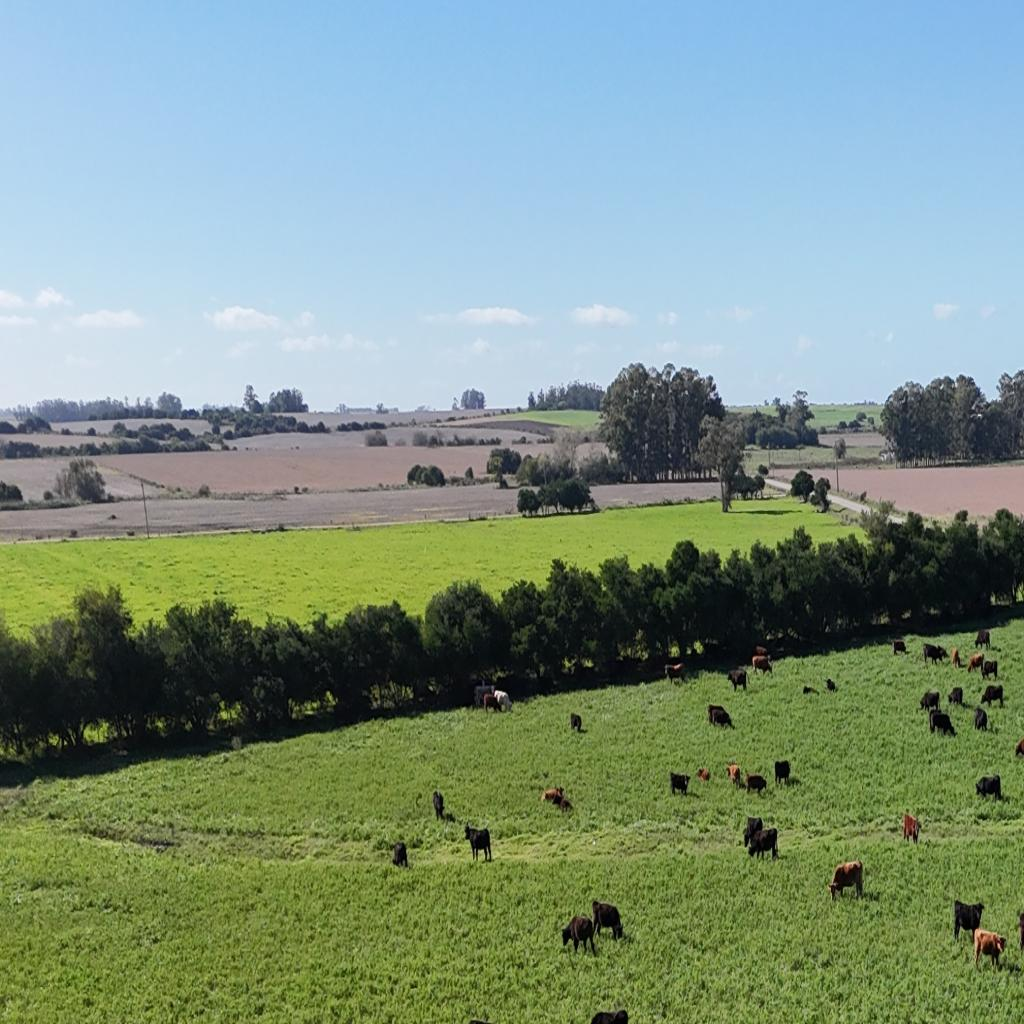cow: (828, 858, 864, 899), (974, 928, 1008, 971), (562, 914, 595, 956), (953, 900, 984, 944), (591, 900, 623, 942), (464, 823, 492, 862), (748, 827, 779, 861), (975, 774, 1002, 801), (929, 710, 956, 736), (902, 812, 921, 845), (590, 1008, 628, 1024), (744, 816, 762, 849), (708, 704, 732, 728), (744, 772, 768, 796), (980, 684, 1004, 707), (923, 643, 948, 665), (727, 668, 748, 694), (670, 771, 690, 796), (920, 690, 940, 713), (774, 760, 791, 787), (752, 655, 773, 676), (541, 786, 563, 806), (665, 662, 684, 684), (392, 842, 408, 868), (982, 659, 1000, 681), (432, 790, 444, 822), (726, 763, 741, 788), (974, 706, 988, 732), (967, 654, 984, 674), (975, 629, 991, 650), (948, 687, 964, 707), (483, 692, 499, 712), (892, 638, 907, 656), (570, 712, 582, 732), (951, 648, 962, 668), (559, 797, 573, 812), (697, 768, 710, 782), (753, 646, 768, 658), (825, 678, 836, 692), (803, 685, 817, 695), (1018, 736, 1024, 758)
